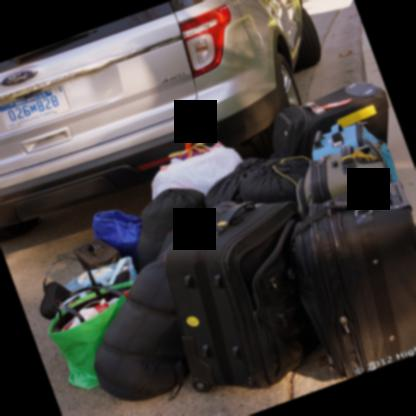handbag: (50, 283, 127, 387), (151, 134, 243, 200), (135, 186, 204, 271), (40, 256, 99, 319), (65, 255, 138, 290), (72, 237, 121, 271)
suitcase: (162, 200, 322, 392), (292, 183, 416, 380), (271, 76, 393, 160), (293, 139, 394, 220), (313, 120, 378, 159)
